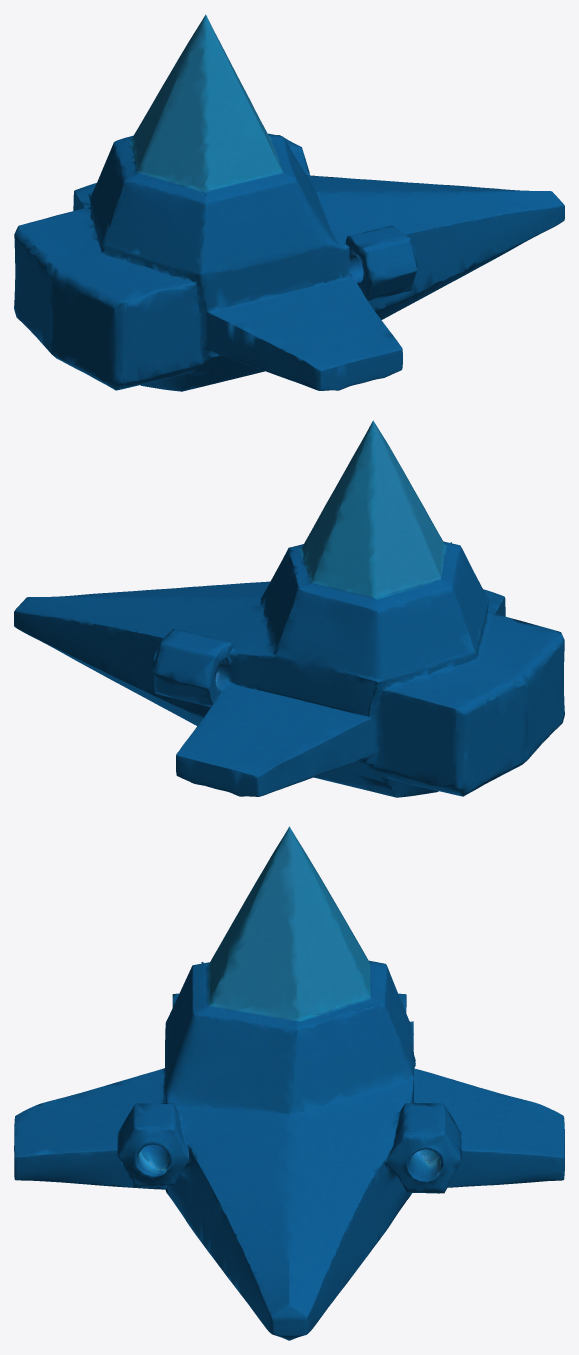
Rendered from pesawat.fbx.
3 renders of one model, top to bottom at view 1: azimuth 30°, elevation 25°; view 2: azimuth 150°, elevation 25°; view 3: azimuth 270°, elevation 25°, orthographic. The views are drawn at different scales.
Visible parts, largest first — view 1: tripo_node_247bf074; view 2: tripo_node_247bf074; view 3: tripo_node_247bf074.
Boxes of the visible parts, box(x1,y1,x2,y2) form: tripo_node_247bf074: box(14, 14, 564, 391); tripo_node_247bf074: box(14, 420, 564, 797); tripo_node_247bf074: box(14, 826, 564, 1340).
Size of the model in its own units: 1 by 0.6744 by 0.8483.
Materials: 1 (1 with a texture image).
